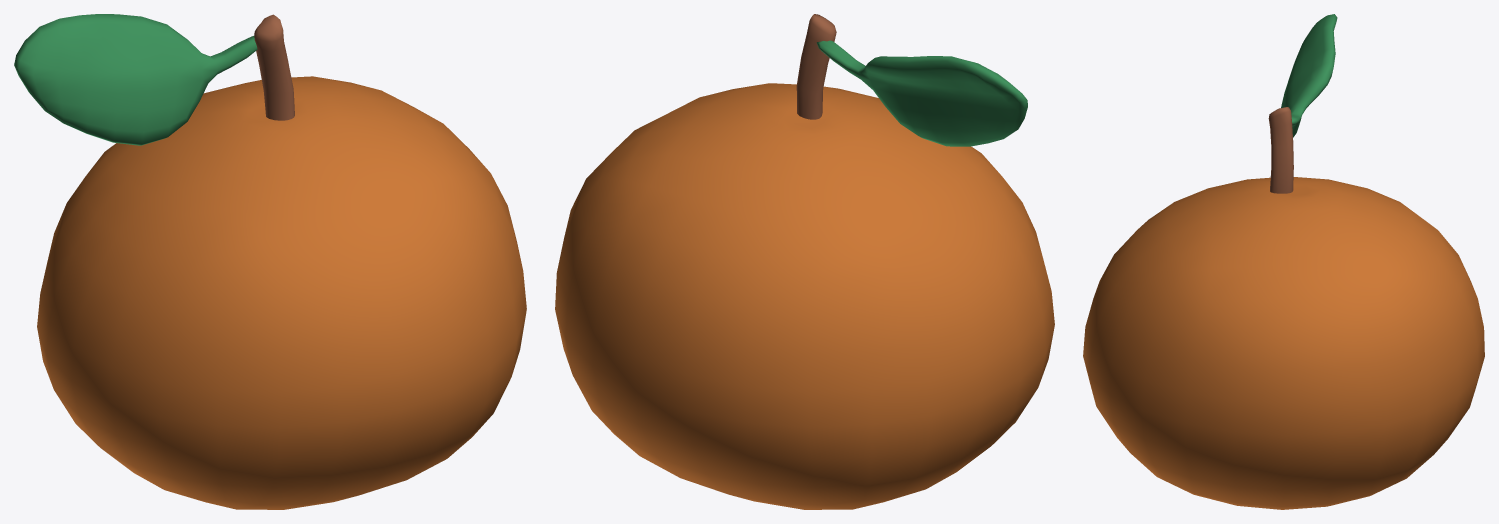
File: Orange_03.dae
The picture shows the model from 3 angles, left to right: view 1: azimuth 30°, elevation 25°; view 2: azimuth 150°, elevation 25°; view 3: azimuth 270°, elevation 25°; orthographic projection. The views are drawn at different scales.
Parts seen in each view (by area): view 1: Orange_03_LOD0; view 2: Orange_03_LOD0; view 3: Orange_03_LOD0.
Boxes of the visible parts, x1,y1,x2,y2 form: Orange_03_LOD0: (14, 14, 526, 509); Orange_03_LOD0: (555, 14, 1054, 509); Orange_03_LOD0: (1083, 14, 1484, 509).
Size of what is drawn, in the model's own units: 4.64 by 4.33 by 4.68.
